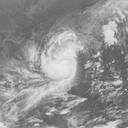cyclone: (40, 30, 77, 80)
